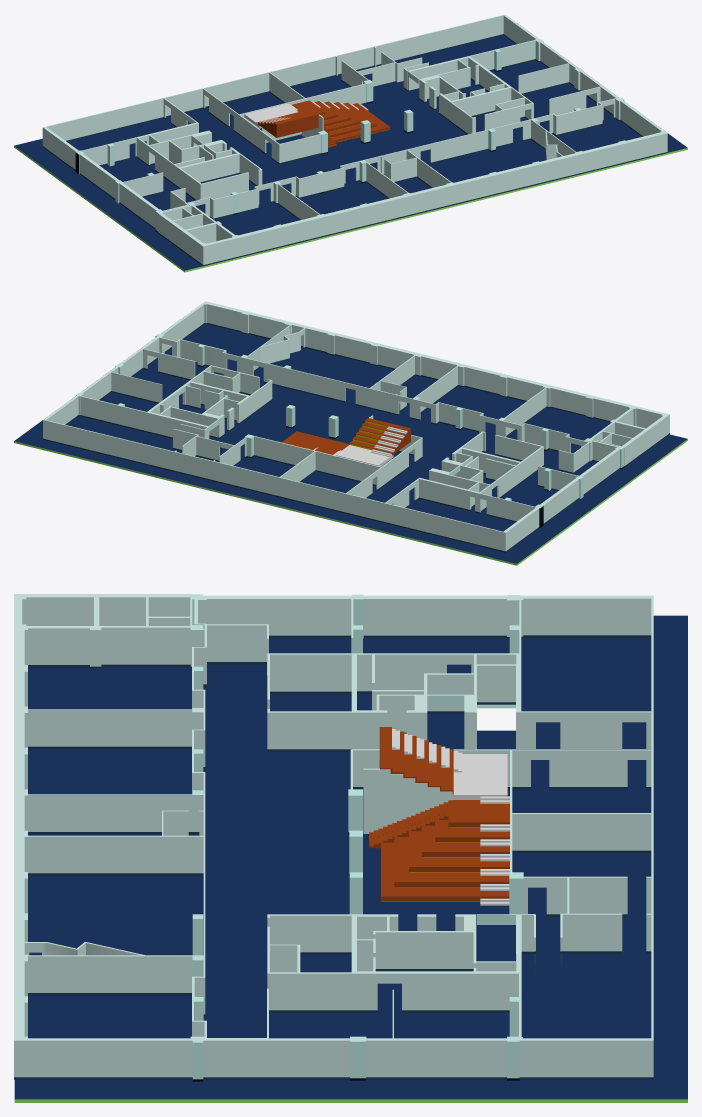
The model's file is B1F_Floor.fbx.
3 renders of one model, top to bottom at view 1: azimuth 30°, elevation 25°; view 2: azimuth 150°, elevation 25°; view 3: azimuth 270°, elevation 25°, orthographic. The views are drawn at different scales.
Visible parts, largest first — view 1: Room_03, B1_Floor, Room_02, Room_01, Big_Stair, Class_Wall, B1F_Pillar_01, StraightStair, B1F_Pillar_02, EV_Wall_A_02, EV_Wall_A_01, Stair_Floor (+2 smaller); view 2: B1_Floor, Room_03, Room_02, Room_01, StraightStair, B1F_Pillar_01, EV_Wall_B_02, Big_Stair, B1F_Pillar_02, Class_Wall, Stair_Floor, EV_Wall_A_02 (+3 smaller); view 3: B1_Floor, Room_03, Room_02, Room_01, Big_Stair, B1F_Pillar_01, StraightStair, Stair_Wall, Samal_Stair, B1F_Pillar_02, Stair_Floor, EV_Wall_B_01.
Part boxes in pixels (x1,y1,x2,y2): Room_03: [42, 14, 602, 200]; B1_Floor: [14, 23, 687, 272]; Room_02: [158, 86, 667, 266]; Room_01: [79, 151, 194, 229]; Big_Stair: [291, 100, 390, 142]; Class_Wall: [262, 57, 428, 163]; B1F_Pillar_01: [75, 39, 624, 232]; StraightStair: [258, 111, 336, 147]; B1F_Pillar_02: [318, 79, 413, 154]; EV_Wall_A_02: [422, 67, 468, 100]; EV_Wall_A_01: [408, 59, 457, 91]; Stair_Floor: [244, 104, 297, 128]; B1_Floor: [14, 324, 687, 565]; Room_03: [43, 348, 543, 552]; Room_02: [141, 301, 669, 467]; Room_01: [535, 440, 620, 524]; StraightStair: [339, 418, 410, 455]; B1F_Pillar_01: [76, 334, 624, 527]; EV_Wall_B_02: [418, 478, 467, 510]; Big_Stair: [281, 431, 348, 454]; B1F_Pillar_02: [244, 405, 338, 458]; Class_Wall: [173, 424, 421, 466]; Stair_Floor: [335, 445, 393, 466]; EV_Wall_A_02: [170, 406, 219, 438]; B1_Floor: [14, 615, 687, 1102]; Room_03: [267, 595, 653, 1079]; Room_02: [14, 594, 266, 1079]; Room_01: [194, 595, 520, 677]; Big_Stair: [381, 800, 509, 901]; B1F_Pillar_01: [192, 594, 521, 1081]; StraightStair: [369, 727, 453, 848]; Stair_Wall: [363, 768, 452, 833]; Samal_Stair: [392, 729, 509, 905]; B1F_Pillar_02: [348, 789, 523, 914]; Stair_Floor: [452, 754, 507, 799]; EV_Wall_B_01: [464, 674, 476, 749].
Size of the model in its own units: 85 by 5.69 by 50.05.
